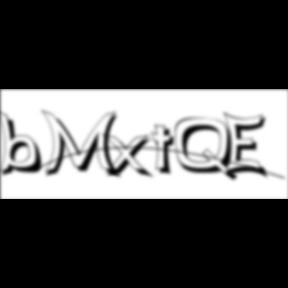E: (224, 110, 272, 182)
M: (41, 108, 125, 181)
Q: (175, 117, 241, 184)
b: (0, 109, 50, 179)
t: (152, 124, 182, 179)
x: (102, 132, 158, 181)
